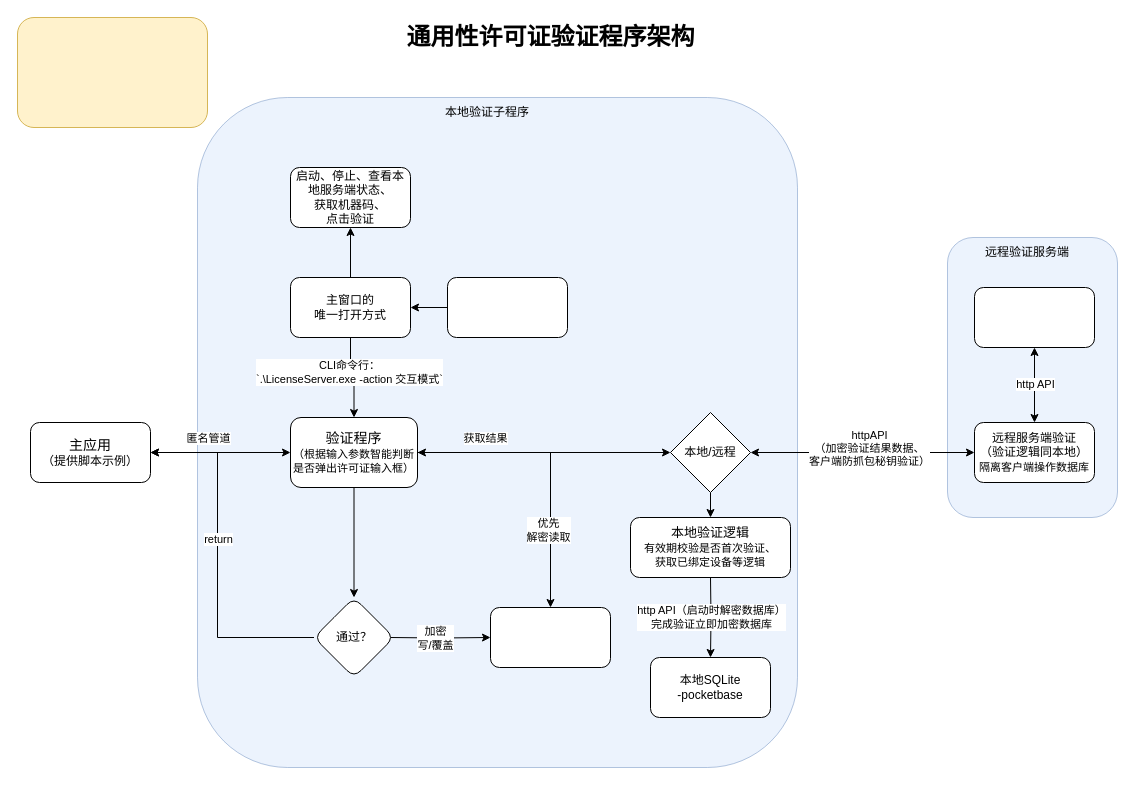
The diagram is 1135 pixels wide and 785 high, and some of its shapes have lost their labels. The shapes that lost their labels are listed below. From the top down, each one's centre as x and y in pixels, then its label:
pixel 112 72: 三大特色： 1、支持本地验证 2、支持线上部署验证 3、支持任意本地应用 ——————————————— 各阶段均考虑数据加密，不易破解
pixel 507 307: 本地验证方式： 批量录入许可证的 唯一途径
pixel 1034 317: 远程SQLite -pocketbase
pixel 550 637: 静态本地授权文件
